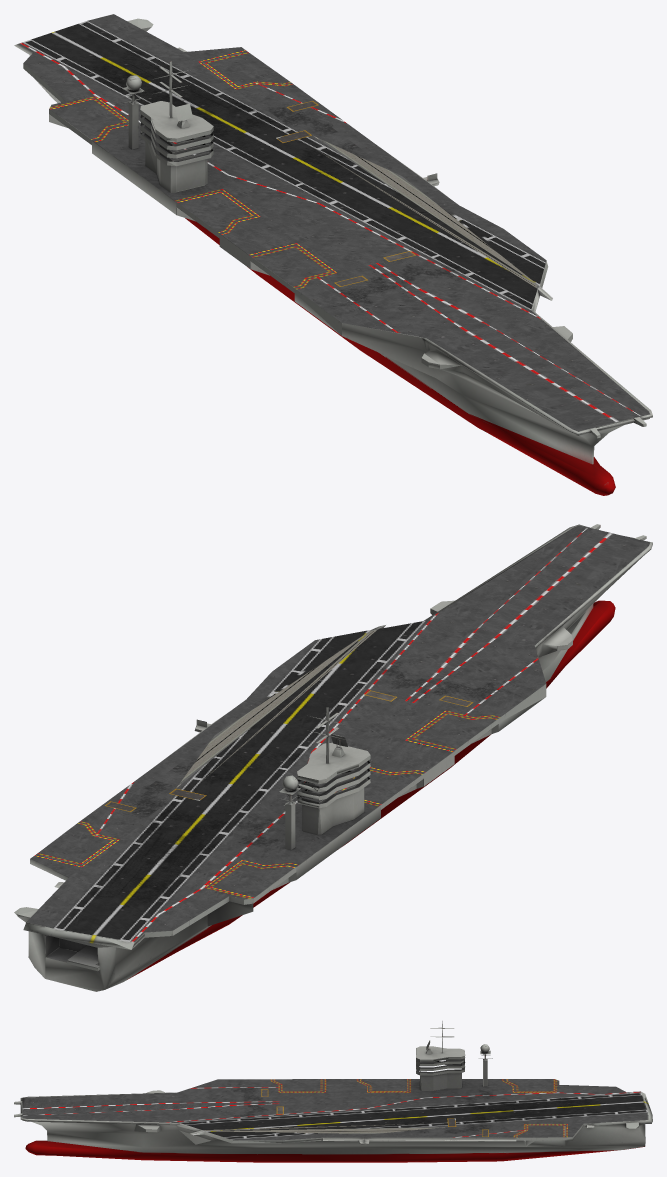
File: nimitz_single_mesh.glb
3 renders of one model, top to bottom at view 1: azimuth 30°, elevation 25°; view 2: azimuth 150°, elevation 25°; view 3: azimuth 270°, elevation 25°, orthographic. The views are drawn at different scales.
Visible parts, largest first — view 1: Nimitz003; view 2: Nimitz003; view 3: Nimitz003.
Boxes of the visible parts, x1,y1,x2,y2 form: Nimitz003: (14,14,652,495); Nimitz003: (14,524,652,991); Nimitz003: (14,1021,652,1162).
Size of the model in its own units: 12.52 by 10.51 by 54.11.
Materials: 1 (1 with a texture image).
